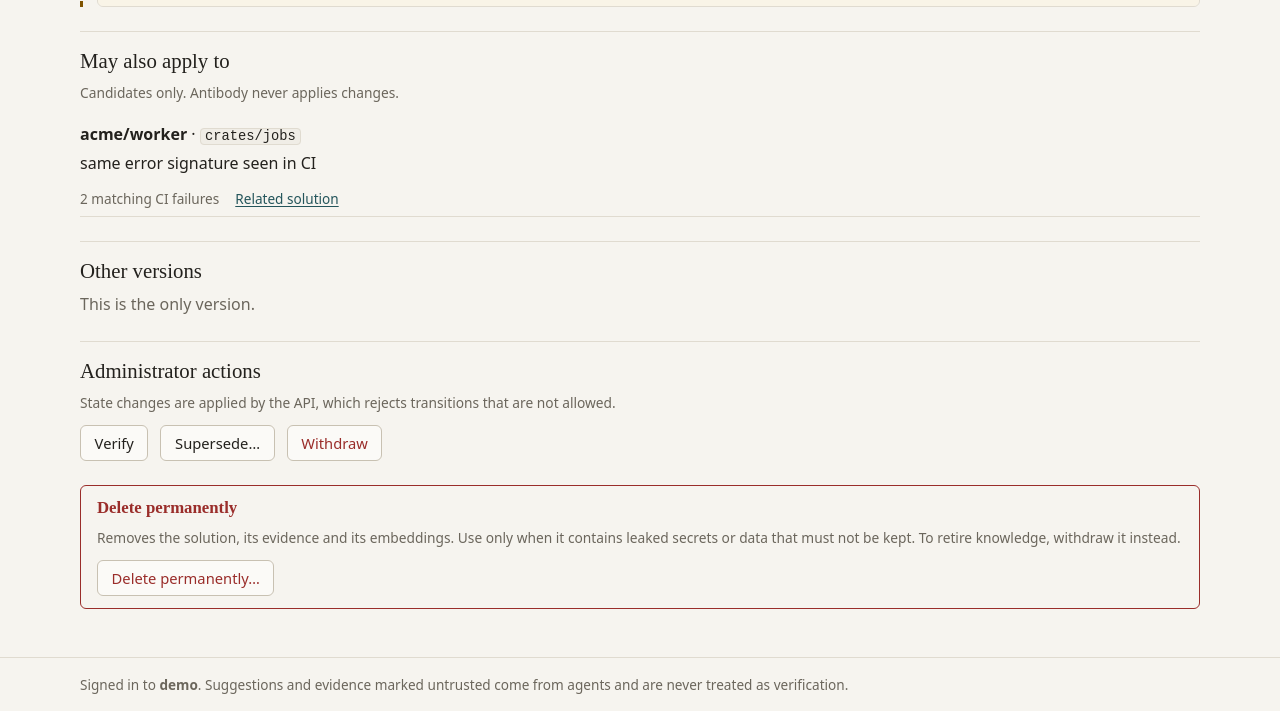
Test: solution detail › deletes permanently only after an explicit, irreversible confirmation
The image size is (1280, 711).
(page scrolled)
Step 1. Click the button "Delete permanently…" → x=186, y=578, box [97,560,274,596]
(page scrolled)
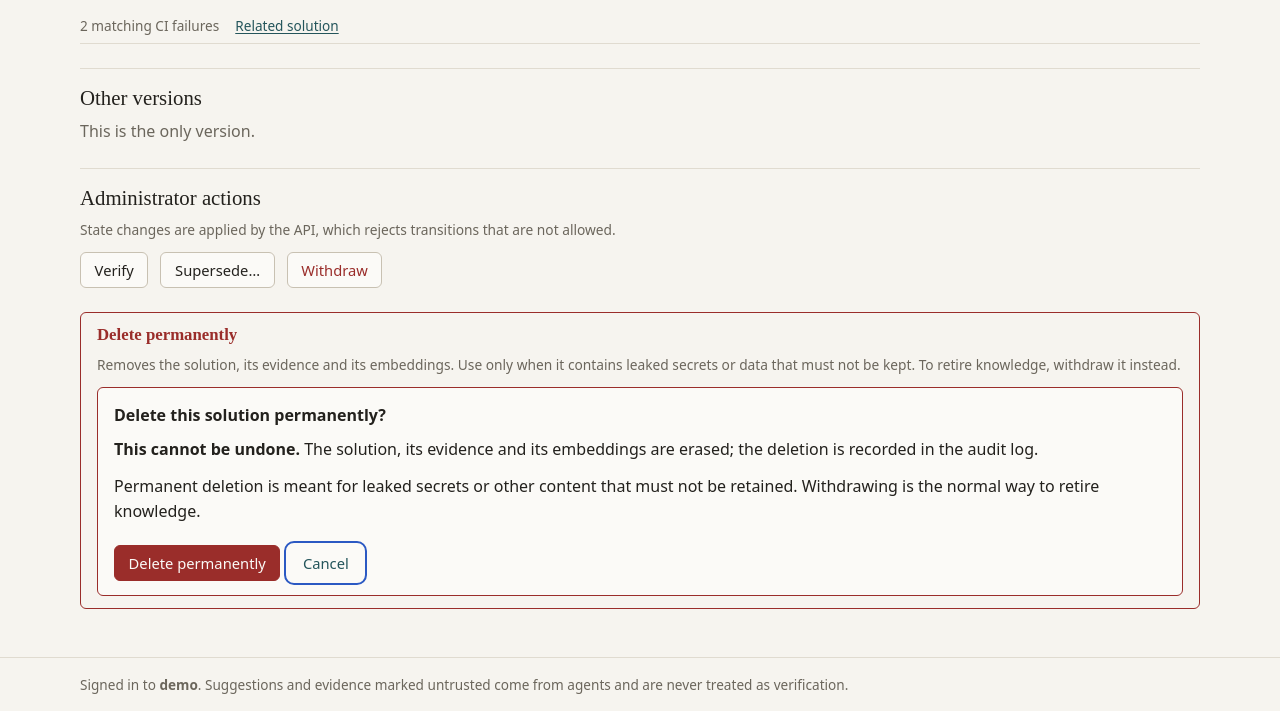
expect the dialog "Delete this solution permanently?" shows "cannot be undone": met, box [114,438,300,460]
expect the dialog "Delete this solution permanently?" shows "leaked secrets": met, box [114,475,1099,522]
expect the dialog "Delete this solution permanently?" shows "Withdrawing is the normal way": met, box [114,475,1099,522]
Step 2. Click the button "Delete permanently" → x=197, y=563, box [114,545,280,581]
(page scrolled)
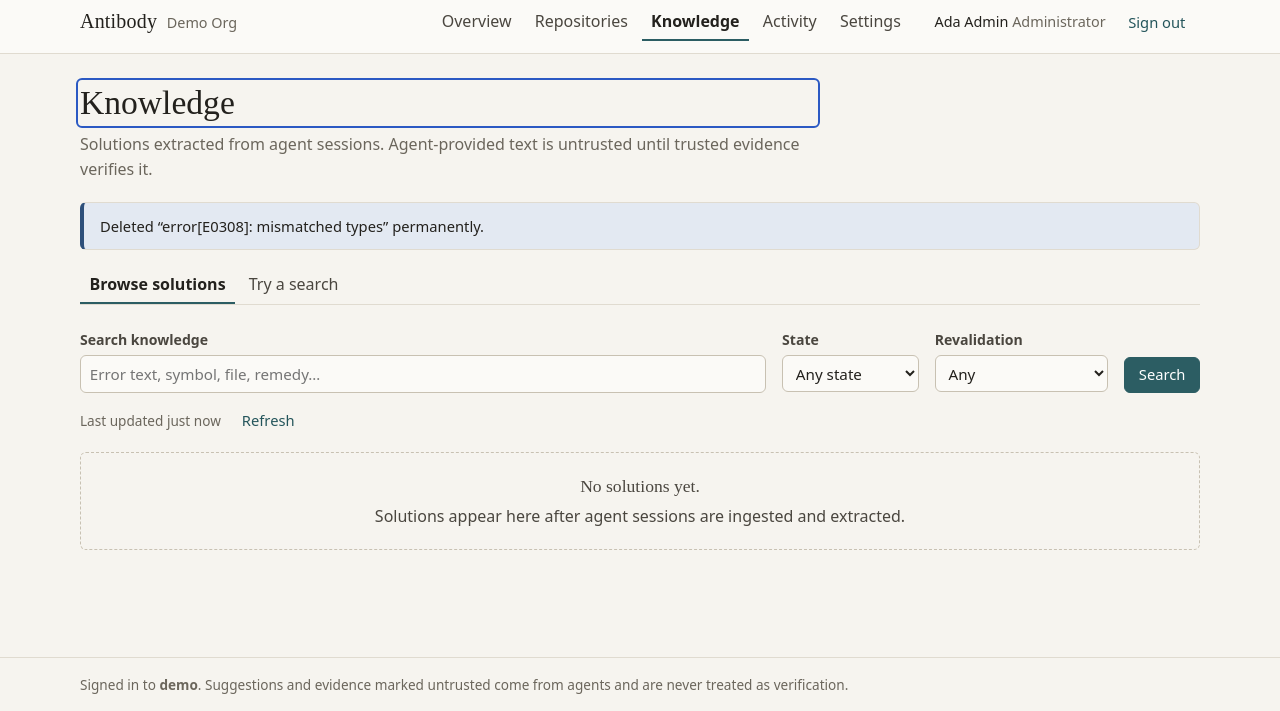
expect the heading "Knowledge" is shown: met, box [80,84,235,121]
